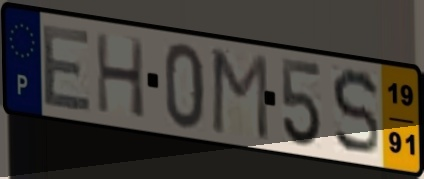0: (162, 39, 207, 132)
5: (279, 53, 324, 151)
E: (41, 22, 95, 114)
H: (93, 29, 148, 122)
M: (209, 46, 271, 145)
S: (329, 66, 382, 159)
